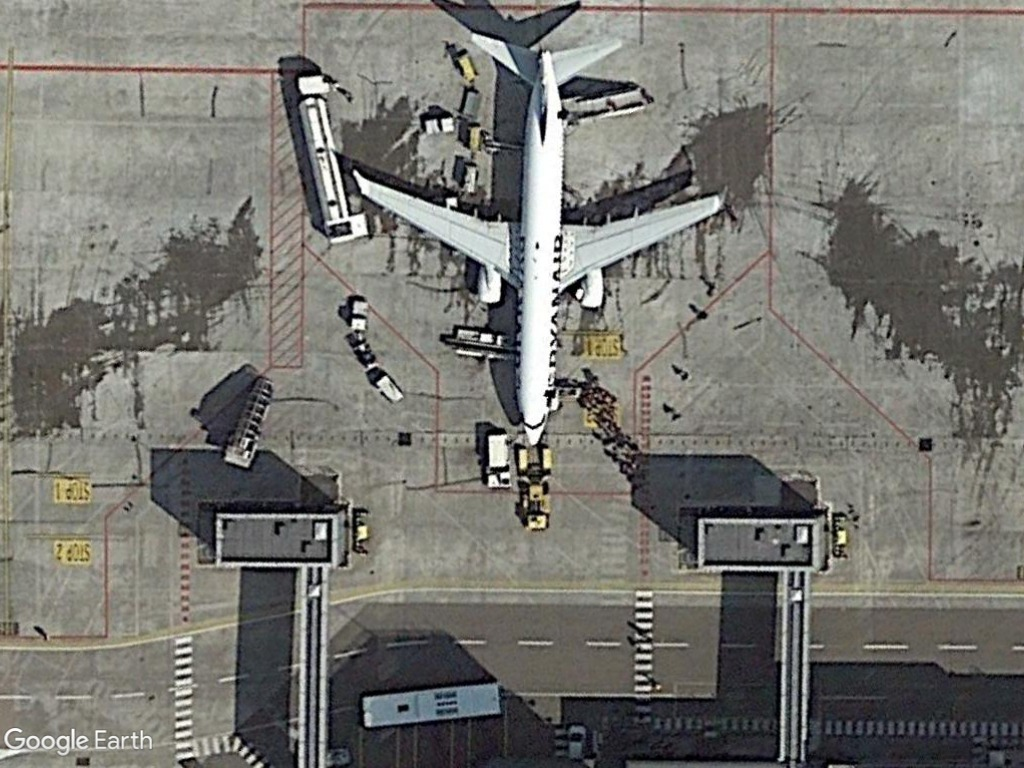airliner: (347, 20, 733, 448)
bus: (357, 676, 503, 732)
longvehicle: (290, 71, 350, 226)
other: (485, 428, 514, 492)
stairtruck: (220, 374, 278, 471), (562, 81, 650, 132)
